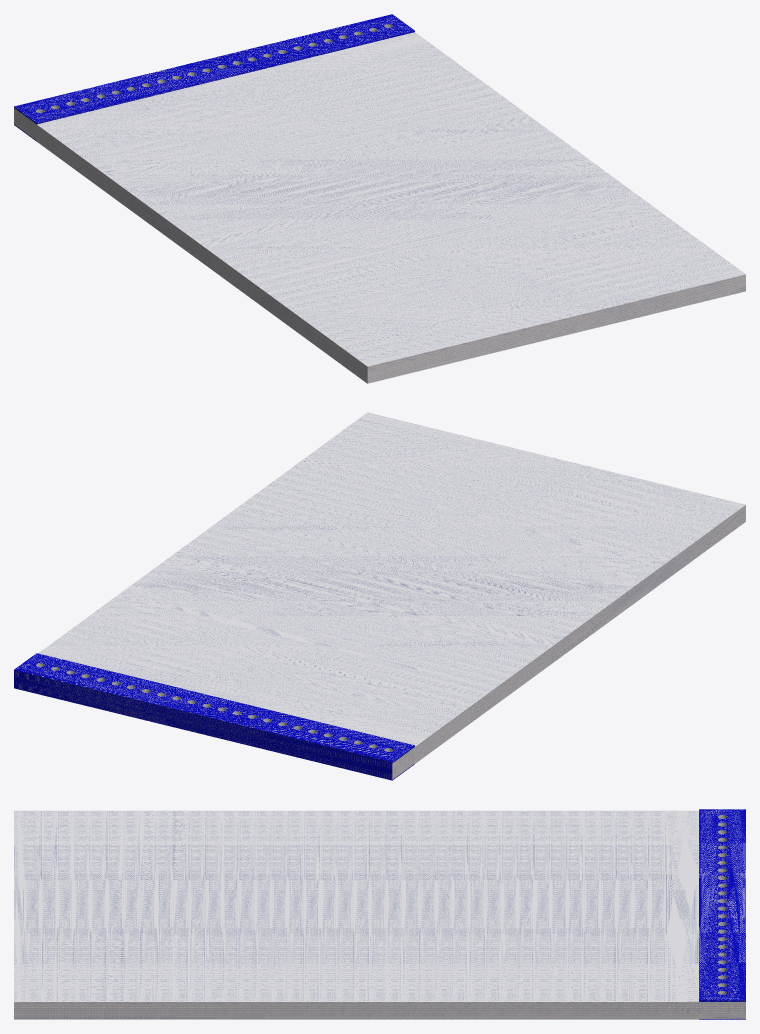
The model's file is bloco_notas.dae.
3 views of the same model, one above another, from view 1: azimuth 30°, elevation 25°; view 2: azimuth 150°, elevation 25°; view 3: azimuth 270°, elevation 25° (orthographic). The views are drawn at different scales.
Parts seen in each view (by area): view 1: SketchUp (×4); view 2: SketchUp (×3); view 3: SketchUp (×4).
Boxes of the visible parts, x1,y1,x2,y2 form: SketchUp (×4): (14,14,745,383); SketchUp (×3): (14,412,745,780); SketchUp (×4): (14,809,745,1019).
Size of the model in its own units: 226 by 366 by 10.63.
